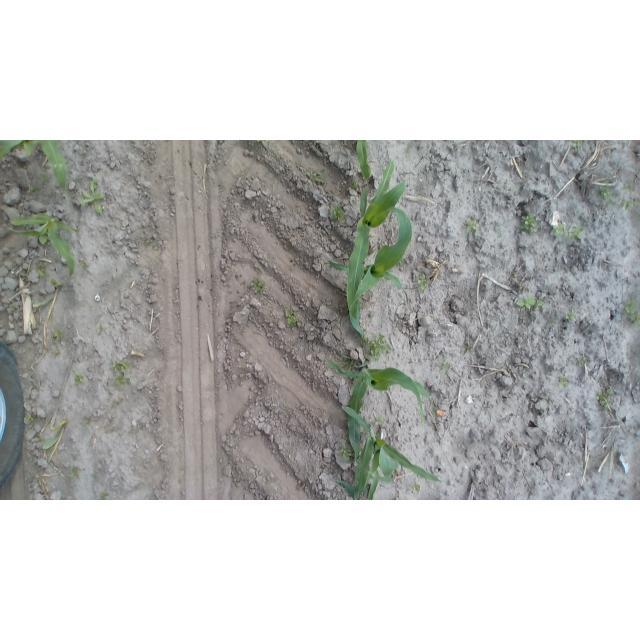Maize: (327, 358, 435, 463), (347, 163, 407, 344), (336, 406, 443, 500), (329, 207, 413, 310), (7, 215, 78, 278), (0, 140, 68, 193), (355, 140, 374, 180)
Weeds: (77, 178, 105, 215), (367, 333, 392, 362), (338, 353, 363, 373), (625, 299, 640, 327), (329, 204, 348, 225), (617, 197, 639, 212), (596, 389, 614, 407), (521, 215, 538, 233), (438, 354, 452, 375), (415, 273, 431, 291), (566, 225, 584, 240), (517, 297, 536, 310), (337, 443, 354, 457), (115, 375, 130, 388), (307, 171, 323, 183), (285, 308, 297, 324), (252, 280, 265, 293), (466, 219, 479, 232), (38, 231, 50, 245), (119, 360, 132, 372), (553, 224, 564, 237), (74, 371, 84, 385), (601, 185, 610, 200), (574, 357, 589, 366), (70, 467, 82, 478), (352, 178, 363, 189), (557, 377, 568, 388), (39, 172, 49, 184), (51, 277, 62, 287), (110, 398, 123, 406), (566, 311, 577, 320), (537, 297, 545, 309), (621, 182, 633, 190), (461, 345, 472, 353), (98, 492, 109, 500), (53, 329, 60, 341), (412, 483, 421, 492), (79, 262, 87, 271), (574, 140, 583, 148), (495, 226, 501, 238), (376, 416, 383, 426), (25, 414, 33, 422), (38, 269, 46, 277), (111, 361, 117, 371), (607, 198, 614, 206), (84, 421, 91, 428), (256, 141, 270, 144), (283, 404, 288, 412), (97, 327, 103, 333), (29, 186, 35, 191), (38, 438, 44, 443), (146, 240, 151, 245), (497, 185, 503, 189), (548, 399, 553, 403), (10, 307, 14, 311), (84, 151, 88, 154), (396, 498, 401, 500)
